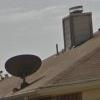Chimney: (56, 1, 95, 51)
